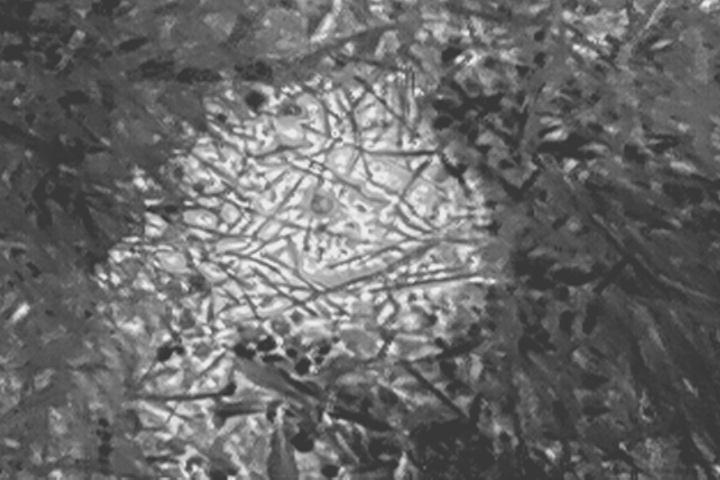landmine: (186, 80, 487, 363)
